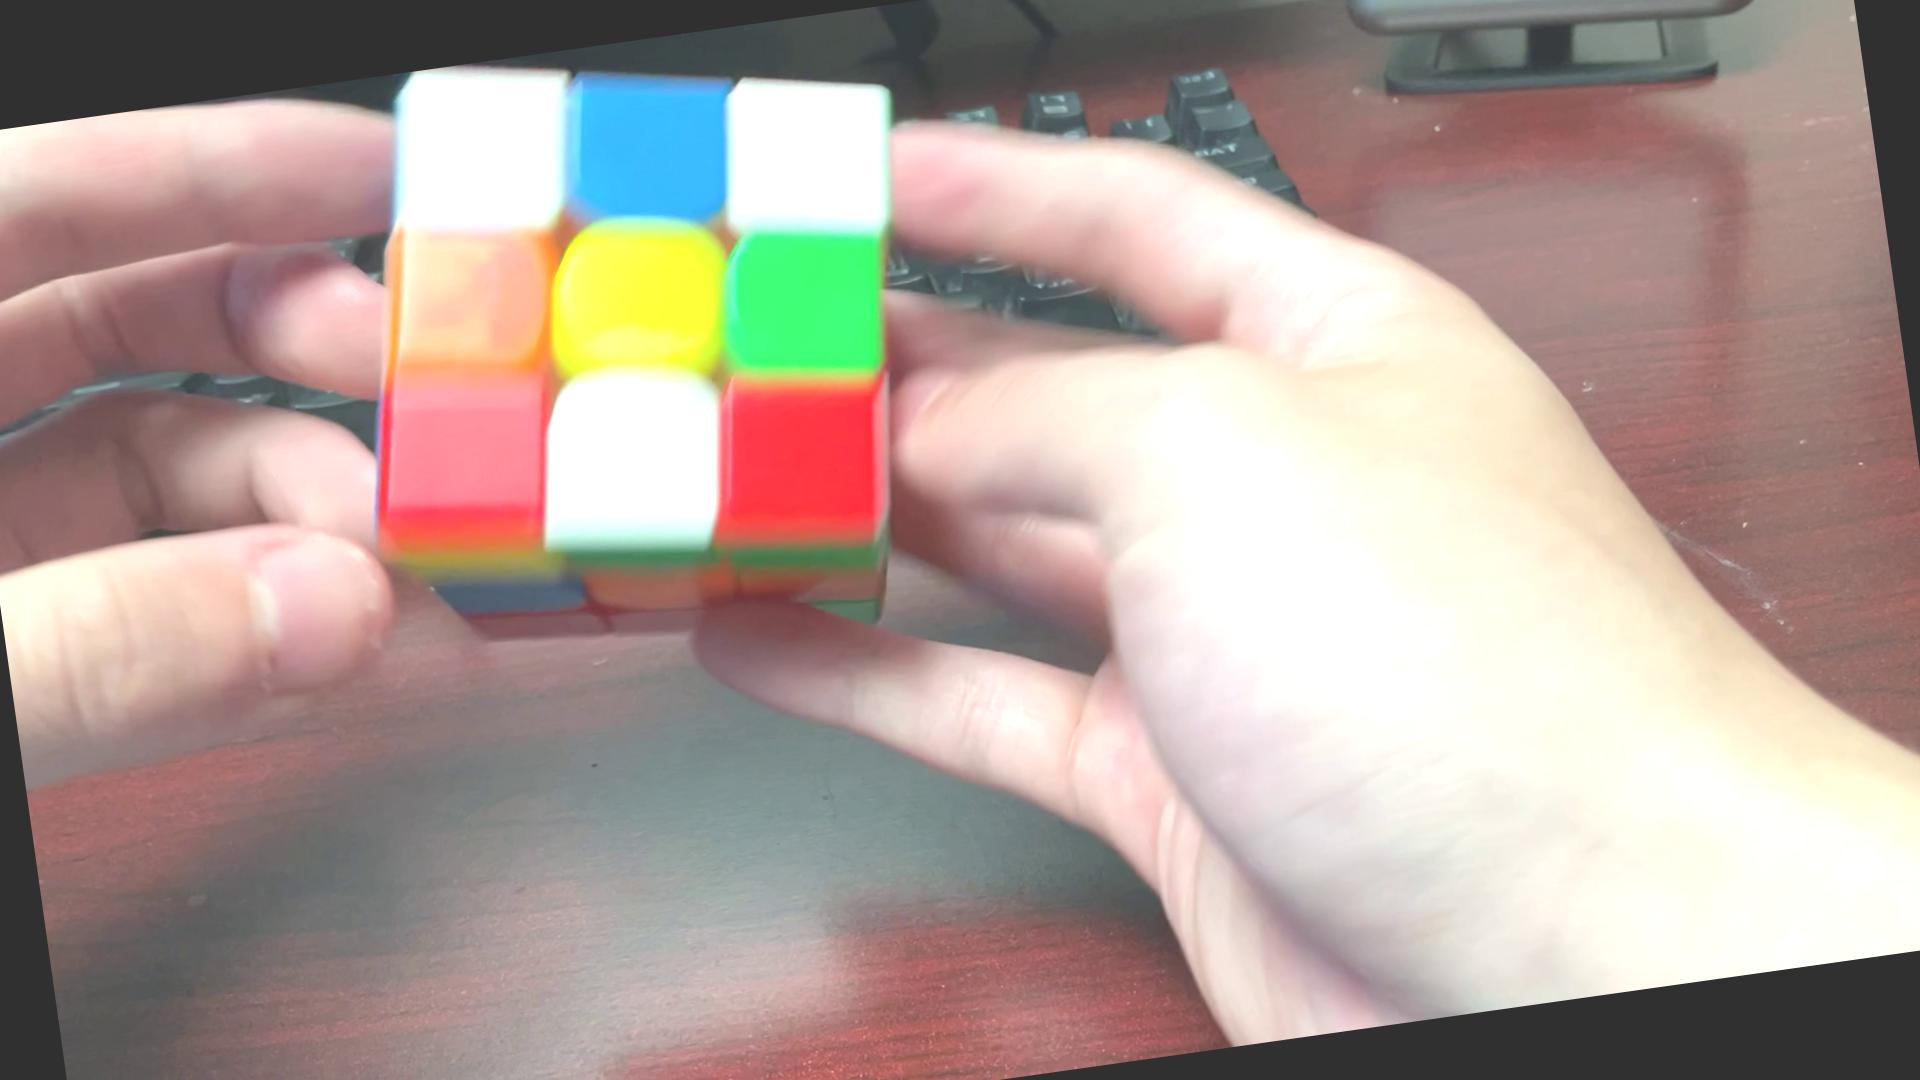Rubiks-Cube: (302, 6, 969, 688)
